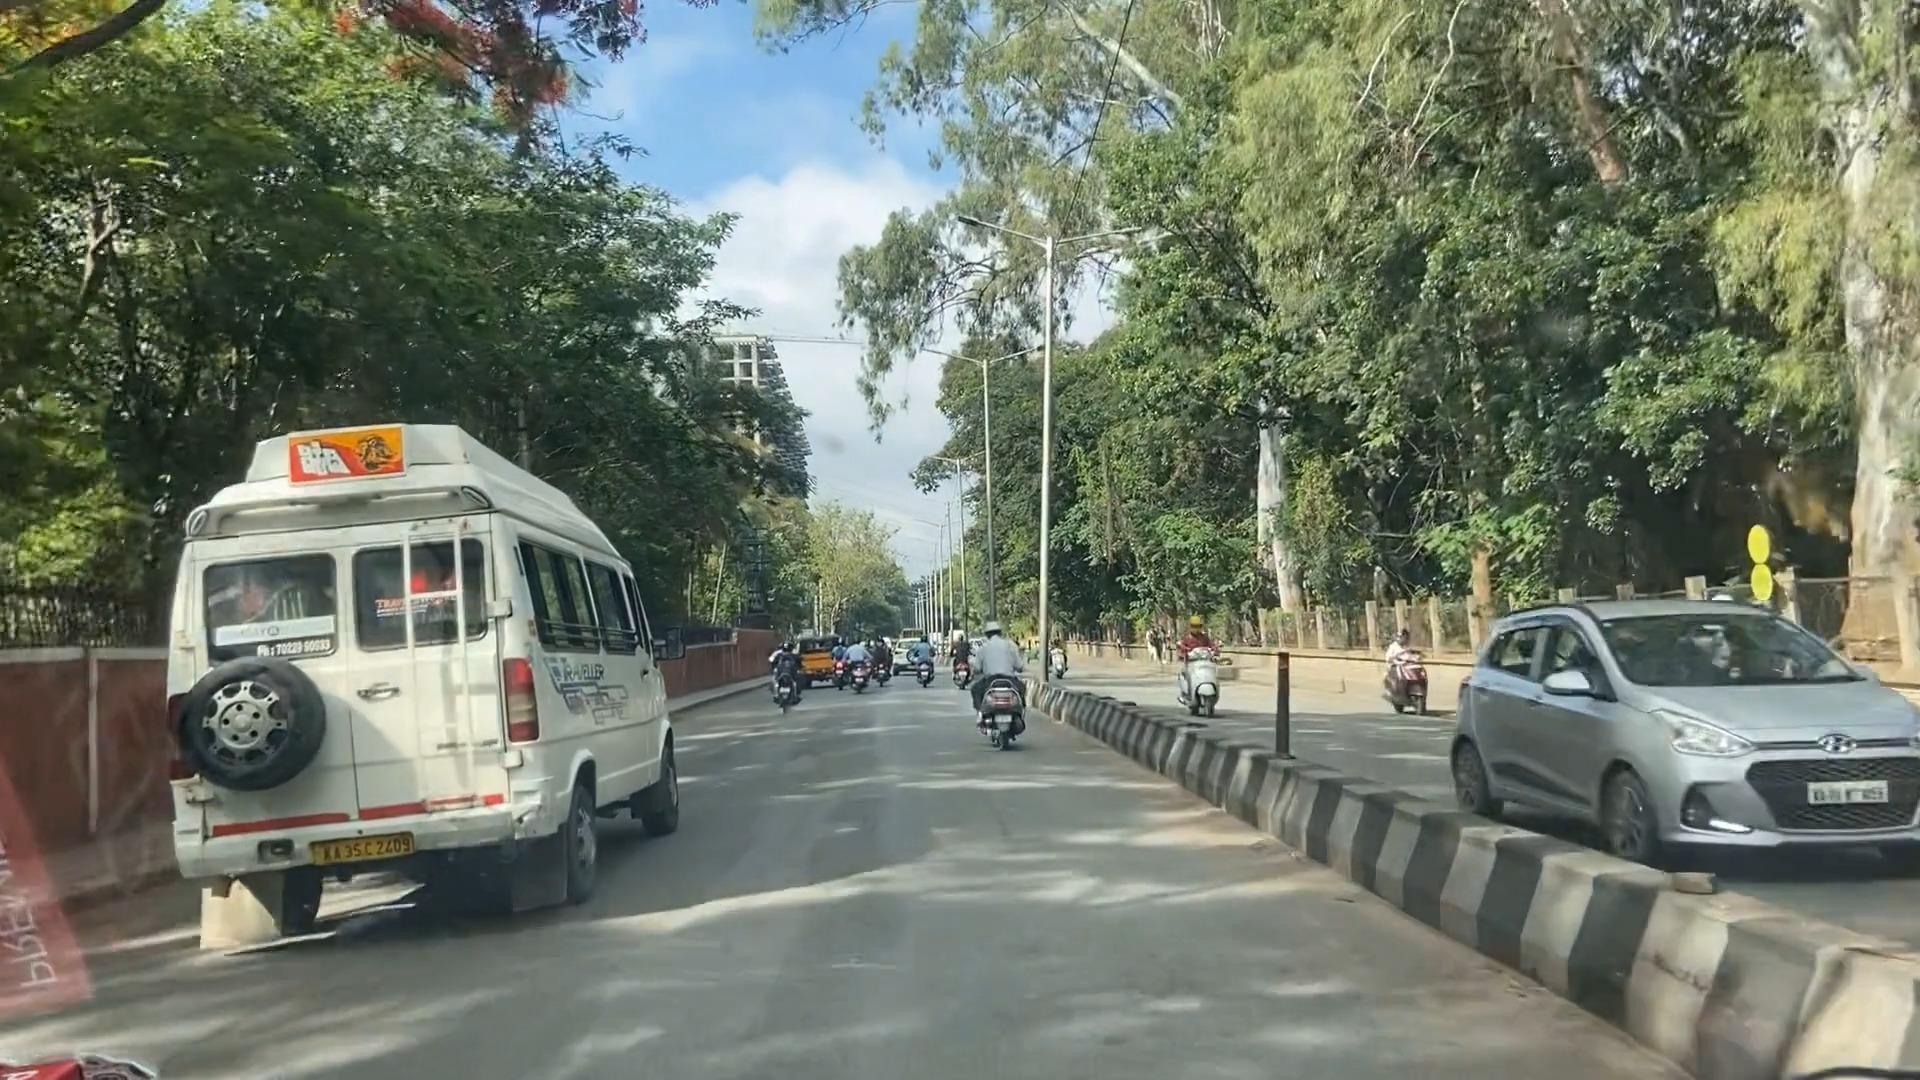HMV: (158, 451, 675, 960)
